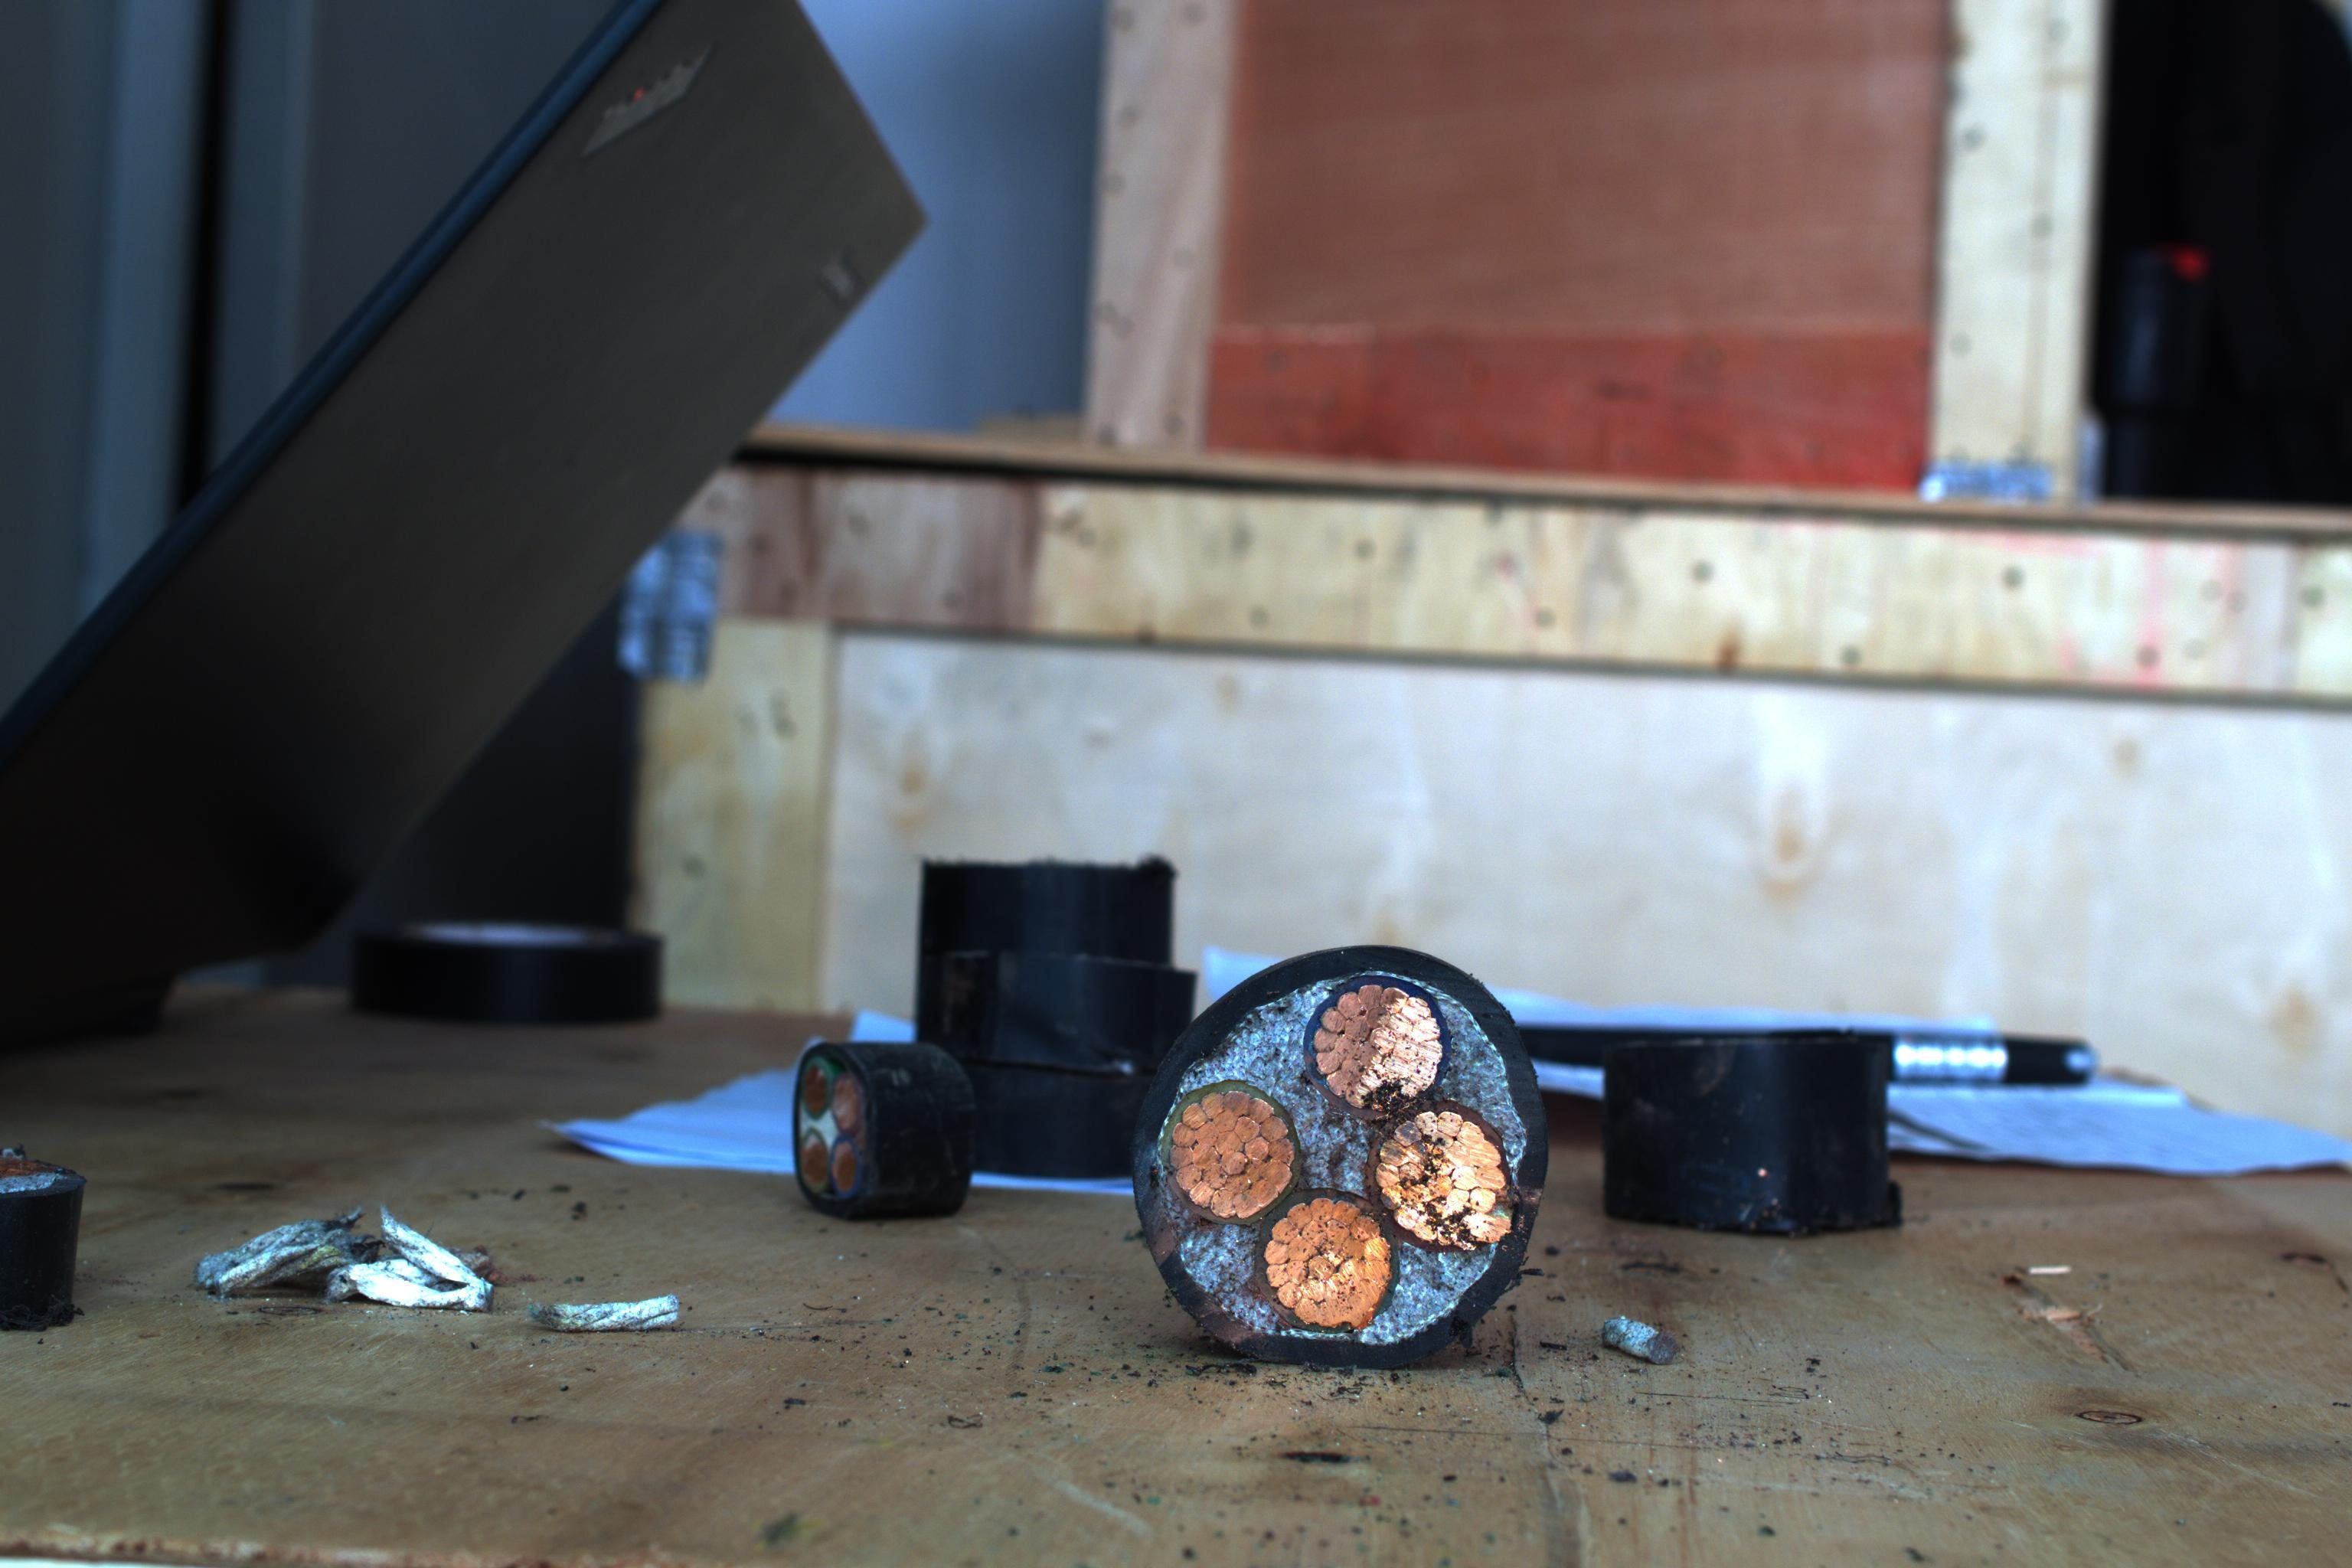YJV_0.6_1kV_4x120: (1134, 947, 1547, 1347)
